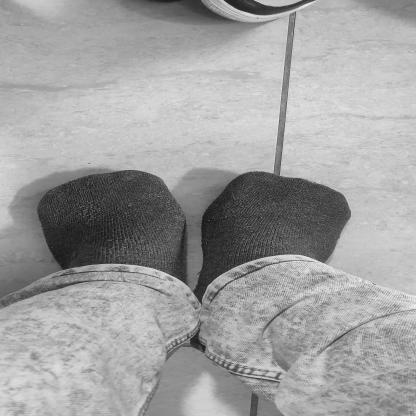ankle: (149, 271, 158, 273), (228, 277, 236, 279)
heel: (199, 301, 206, 305), (176, 294, 182, 298)
left_foot: (38, 171, 188, 314)
pinky: (40, 207, 50, 212), (342, 209, 348, 213)
right_foot: (196, 172, 353, 317)
toe: (244, 177, 254, 181), (150, 180, 159, 184)
